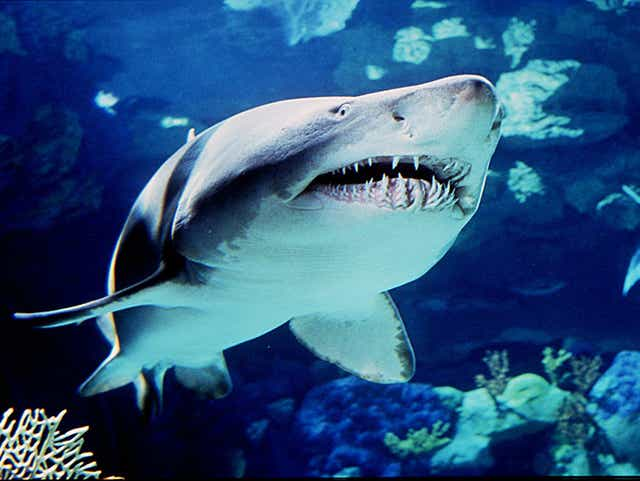shark: (12, 66, 518, 422)
